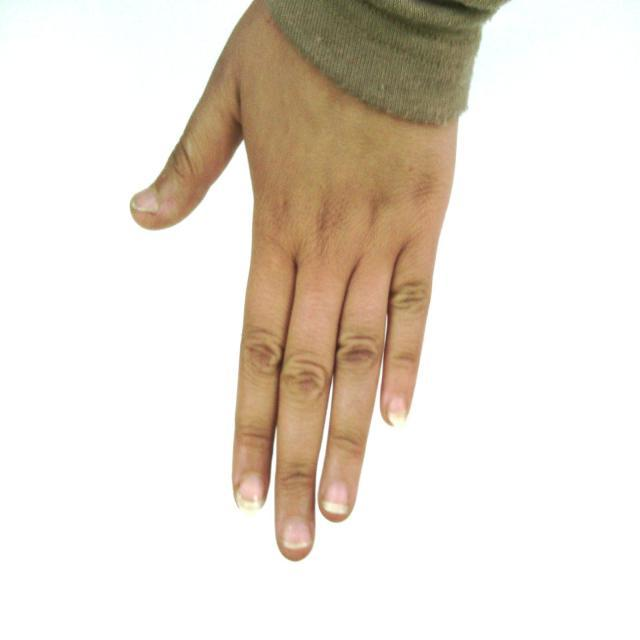Fingernail: (238, 475, 263, 513), (323, 481, 349, 514), (283, 519, 310, 548), (133, 188, 158, 213), (388, 397, 406, 426)
